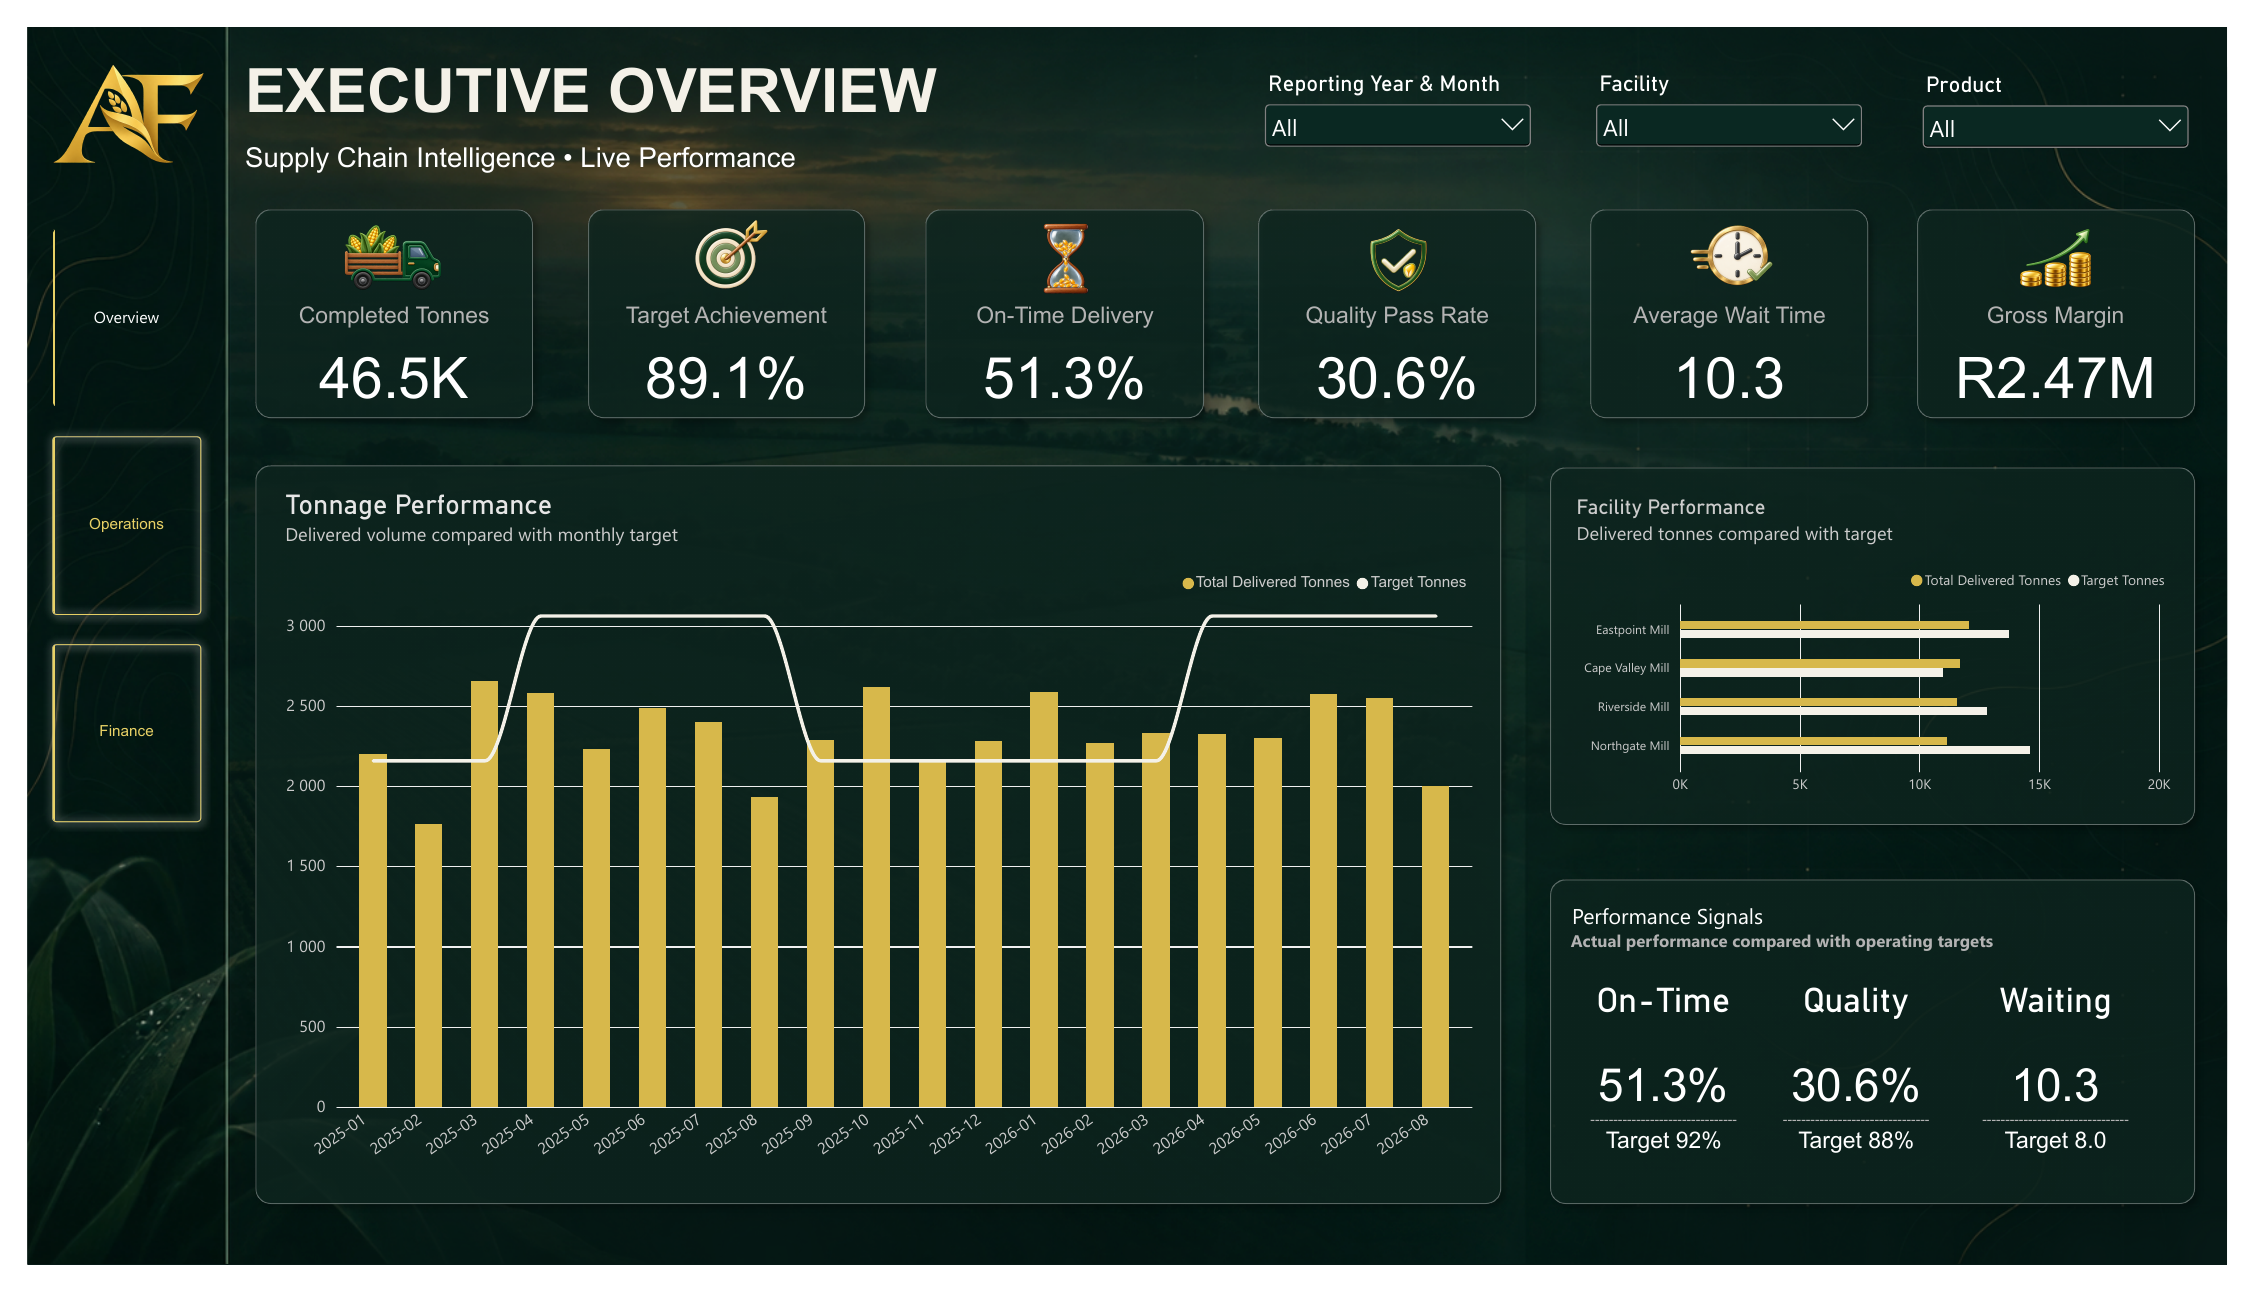

The dashboard page shown, as its layout file describes it:
{"tool":"powerbi","page":{"name":"Overview","canvas":[1920,1080],"ordinal":0},"visuals":[{"type":"textbox","box":[190,25,748.8,75.3],"z":0},{"type":"textbox","box":[190,100,600,37.1],"z":1000},{"type":"pageNavigator","box":[13.3,166.7,146.7,536.7],"z":2000},{"type":"slicer","fields":{"Values":["DimDate.YearMonth"]},"box":[1075,38.3,241.7,81.7],"z":3000},{"type":"shape","box":[1320,375,580,330],"z":4000},{"type":"shape","box":[1320,735,580,300],"z":5000},{"type":"shape","box":[190,372.5,1105,662.5],"z":6000},{"type":"shape","box":[190,150,260,200],"z":7000},{"type":"shape","box":[480,150,260,200],"z":8000},{"type":"shape","box":[775,150,260,200],"z":9000},{"type":"shape","box":[1065,150,260,200],"z":10000},{"type":"shape","box":[1355,150,260,200],"z":11000},{"type":"shape","box":[1640,150,260,200],"z":12000},{"type":"slicer","fields":{"Values":["DimFacility.FacilityName"]},"box":[1364.4,37.8,241.7,81.7],"z":13000},{"type":"slicer","fields":{"Values":["DimProduct.ProductName"]},"box":[1648.9,38.9,242.2,82.2],"z":14000},{"type":"image","box":[12.5,0,150,150],"z":15000},{"type":"LaconicCardFreeC4A74023FBD644529F9068B327CF4BF9","title":"Completed Tonnes","fields":{"mainMeasure":["Key Measures.Total Delivered Tonnes"]},"box":[202.2,225.6,235.6,122.2],"z":16000},{"type":"LaconicCardFreeC4A74023FBD644529F9068B327CF4BF9","title":"Target Achievement","fields":{"mainMeasure":["Key Measures.Tonnage Target Achievement %"]},"box":[492.2,225.6,235.6,122.2],"z":17000},{"type":"LaconicCardFreeC4A74023FBD644529F9068B327CF4BF9","title":"On-Time Delivery","fields":{"mainMeasure":["Key Measures.On-Time Delivery %"]},"box":[787.8,225.6,235.6,122.2],"z":18000},{"type":"LaconicCardFreeC4A74023FBD644529F9068B327CF4BF9","title":"Quality Pass Rate","fields":{"mainMeasure":["Key Measures.Quality Pass %"]},"box":[1077.8,225.6,235.6,122.2],"z":19000},{"type":"LaconicCardFreeC4A74023FBD644529F9068B327CF4BF9","title":"Average Wait Time","fields":{"mainMeasure":["Key Measures.Average Waiting Hours"]},"box":[1367.8,225.6,235.6,122.2],"z":20000},{"type":"LaconicCardFreeC4A74023FBD644529F9068B327CF4BF9","title":"Gross Margin","fields":{"mainMeasure":["Key Measures.Gross Margin"]},"box":[1652.2,225.6,235.6,122.2],"z":21000},{"type":"image","box":[245.7,150,141.4,100],"z":22000},{"type":"image","box":[534.5,154.5,150,83.6],"z":23000},{"type":"image","box":[830.9,161.8,150,79.1],"z":24000},{"type":"image","box":[1121.1,165.6,150,75.6],"z":25000},{"type":"image","box":[1694.4,155.6,150,86.7],"z":26000},{"type":"image","box":[1411.1,155.6,150,87.8],"z":27000},{"type":"lineClusteredColumnComboChart","title":"Tonnage Performance","fields":{"Category":["DimDate.YearMonth"],"Y":["Key Measures.Total Delivered Tonnes"],"Y2":["Key Measures.Target Tonnes"]},"box":[208.6,388.6,1068.6,630],"z":28000},{"type":"clusteredBarChart","title":"Facility Performance","fields":{"Category":["DimFacility.FacilityName"],"Y":["Key Measures.Total Delivered Tonnes","Key Measures.Target Tonnes"]},"box":[1336,394,550,296],"z":29000},{"type":"textbox","box":[1347.8,763.3,195.6,31.1],"z":30000},{"type":"textbox","box":[1347.1,787.1,497.1,31.4],"z":31000},{"type":"LaconicCardFreeC4A74023FBD644529F9068B327CF4BF9","title":"On-Time","fields":{"mainMeasure":["Key Measures.On-Time Delivery %"],"ComparissonValue":["Key Measures.On-Time Target %"]},"box":[1348,818,160,200],"z":32000},{"type":"LaconicCardFreeC4A74023FBD644529F9068B327CF4BF9","title":"Quality","fields":{"mainMeasure":["Key Measures.Quality Pass %"],"ComparissonValue":["Key Measures.Quality Target %"]},"box":[1516,818,160,200],"z":33000},{"type":"LaconicCardFreeC4A74023FBD644529F9068B327CF4BF9","title":"Waiting","fields":{"mainMeasure":["Key Measures.Average Waiting Hours"],"ComparissonValue":["Key Measures.Waiting-Hours Target"]},"box":[1690,818,160,200],"z":34000}]}

Visuals, with their boxes in screenshot pixels (x1, y1, x2, y2), scaled from the page's 1920x1080 canvas onto the 2255x1293 screenshot:
textbox: box=[223, 30, 1103, 120]
textbox: box=[223, 120, 928, 164]
pageNavigator: box=[16, 200, 188, 842]
slicer - DimDate.YearMonth: box=[1263, 46, 1546, 144]
shape: box=[1550, 449, 2232, 844]
shape: box=[1550, 880, 2232, 1239]
shape: box=[223, 446, 1521, 1239]
shape: box=[223, 180, 529, 419]
shape: box=[564, 180, 869, 419]
shape: box=[910, 180, 1216, 419]
shape: box=[1251, 180, 1556, 419]
shape: box=[1591, 180, 1897, 419]
shape: box=[1926, 180, 2232, 419]
slicer - DimFacility.FacilityName: box=[1602, 45, 1886, 143]
slicer - DimProduct.ProductName: box=[1937, 47, 2221, 145]
image: box=[15, 0, 191, 180]
"Completed Tonnes" LaconicCardFreeC4A74023FBD644529F9068B327CF4BF9: box=[237, 270, 514, 416]
"Target Achievement" LaconicCardFreeC4A74023FBD644529F9068B327CF4BF9: box=[578, 270, 855, 416]
"On-Time Delivery" LaconicCardFreeC4A74023FBD644529F9068B327CF4BF9: box=[925, 270, 1202, 416]
"Quality Pass Rate" LaconicCardFreeC4A74023FBD644529F9068B327CF4BF9: box=[1266, 270, 1543, 416]
"Average Wait Time" LaconicCardFreeC4A74023FBD644529F9068B327CF4BF9: box=[1606, 270, 1883, 416]
"Gross Margin" LaconicCardFreeC4A74023FBD644529F9068B327CF4BF9: box=[1940, 270, 2217, 416]
image: box=[289, 180, 455, 299]
image: box=[628, 185, 804, 285]
image: box=[976, 194, 1152, 288]
image: box=[1317, 198, 1493, 289]
image: box=[1990, 186, 2166, 290]
image: box=[1657, 186, 1833, 291]
"Tonnage Performance" lineClusteredColumnComboChart: box=[245, 465, 1500, 1219]
"Facility Performance" clusteredBarChart: box=[1569, 472, 2215, 826]
textbox: box=[1583, 914, 1813, 951]
textbox: box=[1582, 942, 2166, 980]
"On-Time" LaconicCardFreeC4A74023FBD644529F9068B327CF4BF9: box=[1583, 979, 1771, 1219]
"Quality" LaconicCardFreeC4A74023FBD644529F9068B327CF4BF9: box=[1781, 979, 1968, 1219]
"Waiting" LaconicCardFreeC4A74023FBD644529F9068B327CF4BF9: box=[1985, 979, 2173, 1219]
